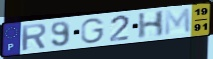2: (109, 14, 132, 43)
9: (49, 21, 71, 48)
G: (80, 17, 107, 45)
H: (137, 9, 167, 40)
M: (164, 7, 193, 37)
R: (20, 22, 48, 52)
